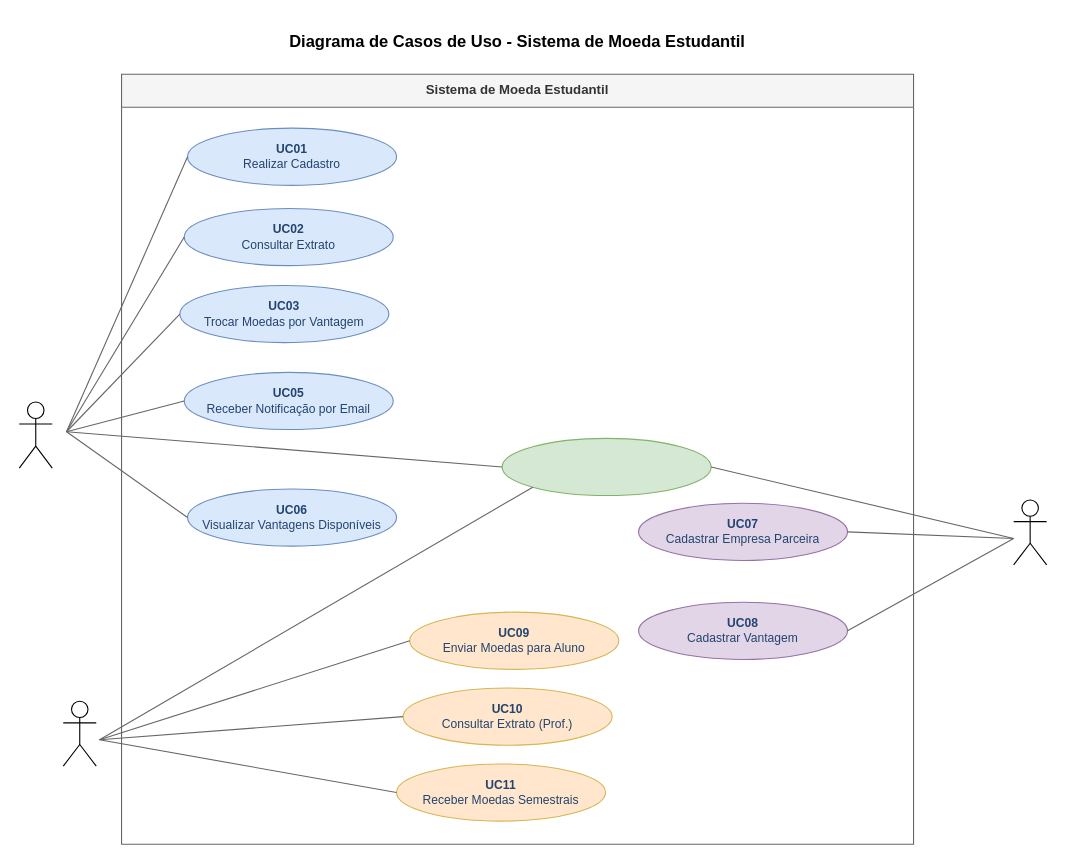
This 1076x864 diagram has some shape labels left out. The centre of each missing label's shape, as x and y in pixels:
Aluno: [35,434]
Empresa: [1030,532]
Professor: [79,733]
UC04 Autenticar no Sistema: [606,466]
